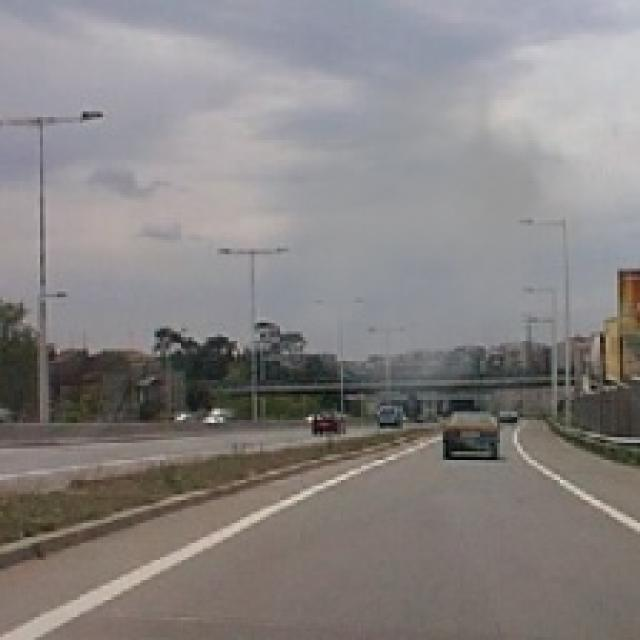Smoke: (266, 37, 626, 432)
